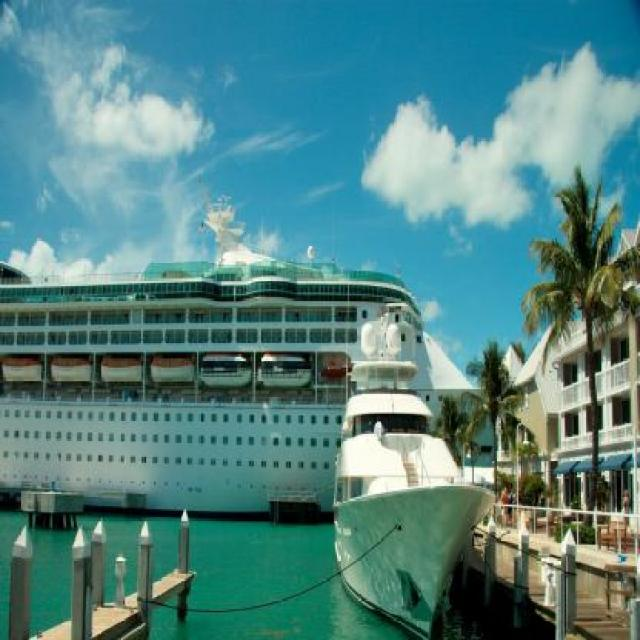ship: (0, 250, 488, 524), (332, 316, 493, 638)
